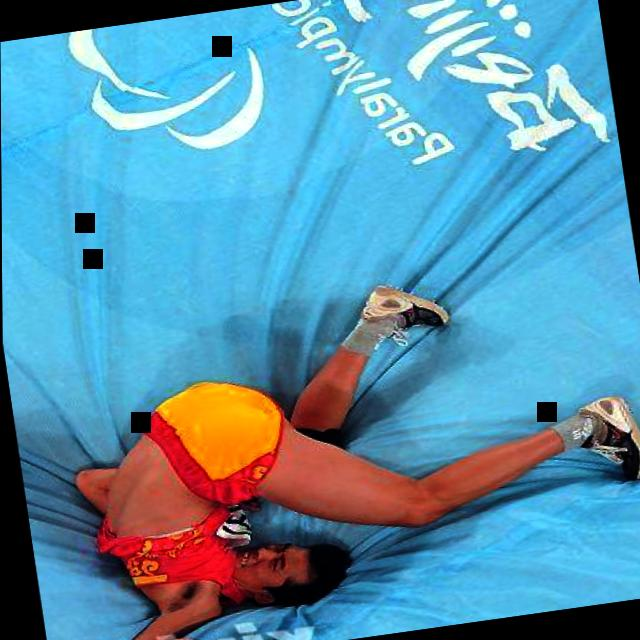Fall-Detected: (1, 253, 640, 640)
